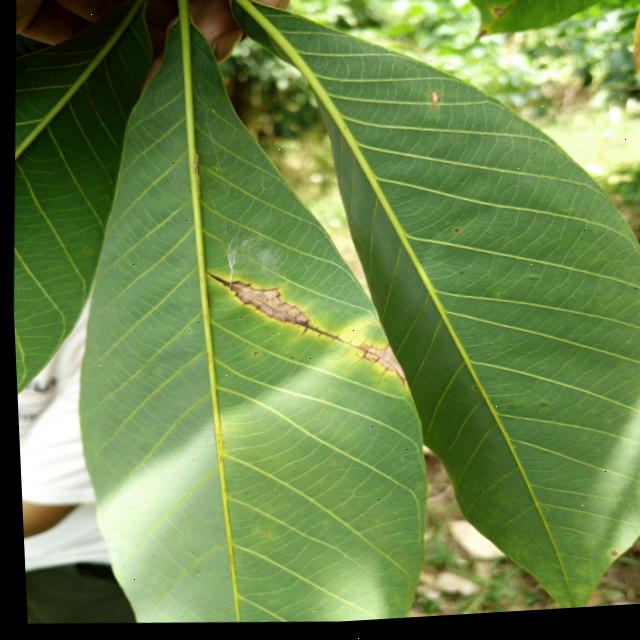Colletotrichum: (453, 235, 457, 237)
Corynespora: (199, 270, 310, 337), (298, 324, 375, 368)
Leaf-Blight: (359, 349, 402, 383)
